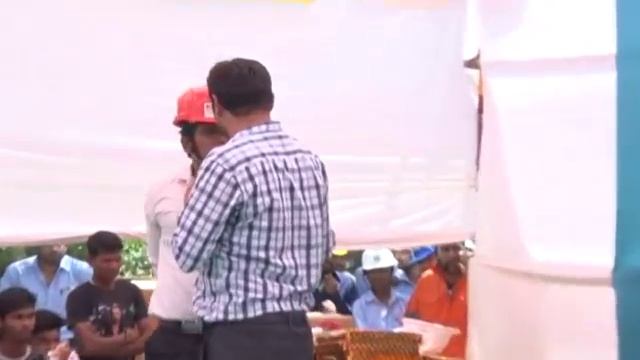helmet: (169, 84, 226, 133), (397, 316, 461, 358), (361, 252, 400, 274)
helmet_off: (203, 62, 276, 143), (0, 287, 40, 354), (21, 312, 67, 360), (87, 235, 124, 284), (434, 238, 466, 279), (32, 242, 73, 268), (329, 249, 358, 278)
helmet_on: (168, 79, 232, 179), (362, 252, 401, 291)
person: (168, 52, 331, 360), (145, 73, 233, 357), (66, 234, 149, 358), (408, 238, 469, 358), (1, 242, 92, 318), (349, 251, 410, 333)
